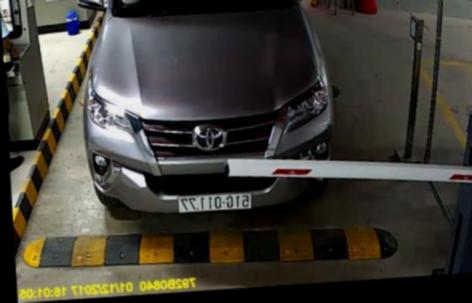License_Plate: (177, 186, 254, 217)
